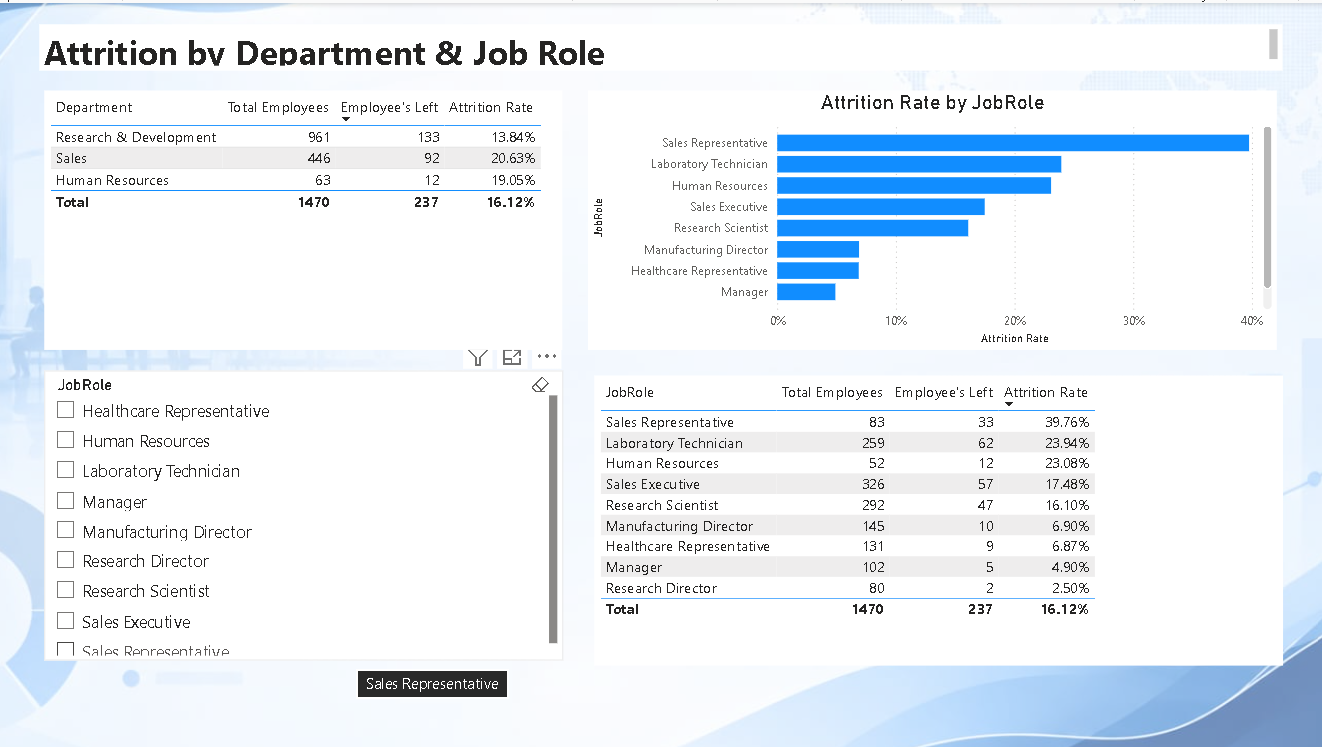

This screenshot's page, from the dashboard's own definition file:
{"tool":"powerbi","page":{"name":"by Department and role","canvas":[1280,720],"ordinal":1},"visuals":[{"type":"slicer","fields":{"Values":["cleaned_hr_data.JobRole"]},"box":[45,355,500,280],"z":0},{"type":"clusteredBarChart","fields":{"Y":["cleaned_hr_data.Attrition Rate"],"Category":["cleaned_hr_data.JobRole"]},"box":[570,85,665,250],"z":1000},{"type":"tableEx","fields":{"Values":["cleaned_hr_data.JobRole","cleaned_hr_data.Total Employees","Sum(cleaned_hr_data.Attrition_flag)","cleaned_hr_data.Attrition Rate"]},"box":[575,360,665,280],"z":2000},{"type":"tableEx","fields":{"Values":["cleaned_hr_data.Department","cleaned_hr_data.Total Employees","Sum(cleaned_hr_data.Attrition_flag)","cleaned_hr_data.Attrition Rate"]},"box":[45,85,500,250],"z":3000},{"type":"textbox","box":[39.8,20.5,1200,45],"z":7000}]}

Visuals, with their boxes in screenshot pixels (x1, y1, x2, y2), scaled from the page's 1280x720 canvas onto the 1322x747 screenshot:
slicer - cleaned_hr_data.JobRole: {"x1": 46, "y1": 368, "x2": 563, "y2": 659}
clusteredBarChart - cleaned_hr_data.Attrition Rate x cleaned_hr_data.JobRole: {"x1": 589, "y1": 88, "x2": 1276, "y2": 348}
tableEx - cleaned_hr_data.JobRole x cleaned_hr_data.Total Employees: {"x1": 594, "y1": 374, "x2": 1281, "y2": 664}
tableEx - cleaned_hr_data.Department x cleaned_hr_data.Total Employees: {"x1": 46, "y1": 88, "x2": 563, "y2": 348}
textbox: {"x1": 41, "y1": 21, "x2": 1280, "y2": 68}
